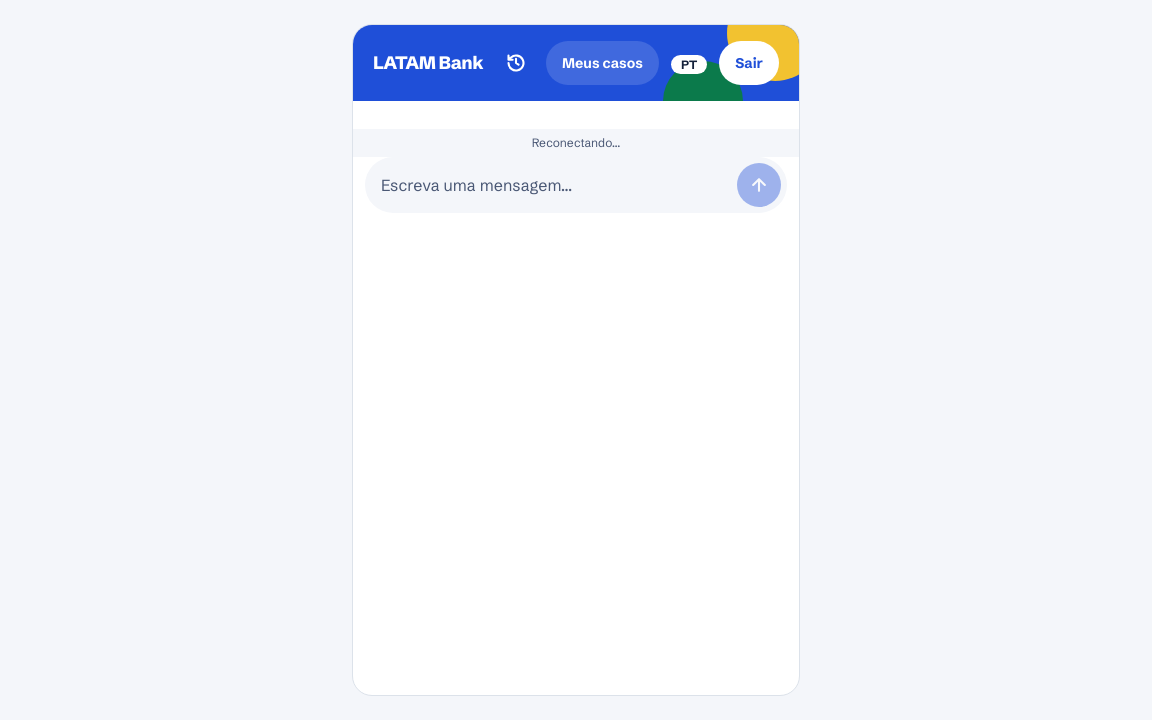
conversation history drawer › speaks Portuguese: drawer title, tags, hide and end labels
What coordinates should you click on to do the following:
click the button named "Conversas"
I would click on:
 (516, 63)
Its box is [494, 41, 538, 85].
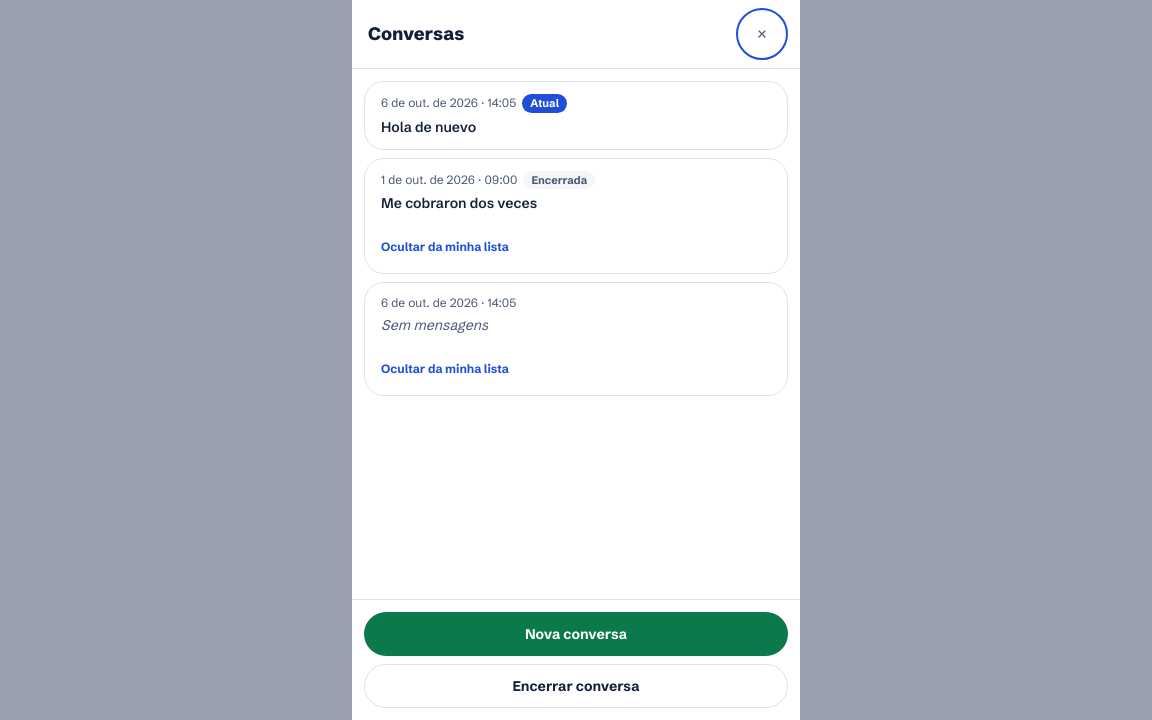
Check: the text "Me cobraron dos veces" is shown, box [381, 193, 537, 213]
Check: the text "Atual" is shown, box [522, 94, 567, 113]
Check: the text "Encerrada" is shown, box [524, 171, 595, 189]
